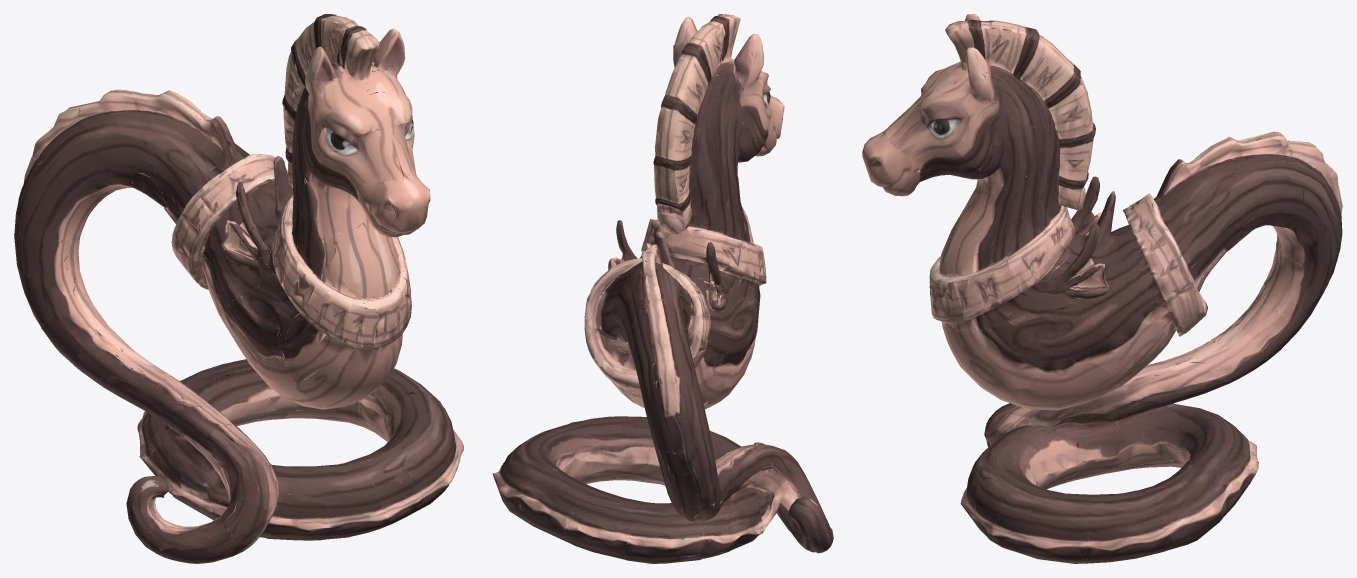
The picture shows the model from 3 angles, left to right: view 1: azimuth 30°, elevation 25°; view 2: azimuth 150°, elevation 25°; view 3: azimuth 270°, elevation 25°; orthographic projection. The views are drawn at different scales.
Parts seen in each view (by area): view 1: Mesh_0; view 2: Mesh_0; view 3: Mesh_0.
Part boxes in pixels (x1=…): Mesh_0: x1=14, y1=14, x2=463, y2=563; Mesh_0: x1=492, y1=14, x2=833, y2=563; Mesh_0: x1=862, y1=14, x2=1342, y2=563.
Size of the model in its own units: 1.25 by 1.9 by 1.66.
Materials: 1 (1 with a texture image).
